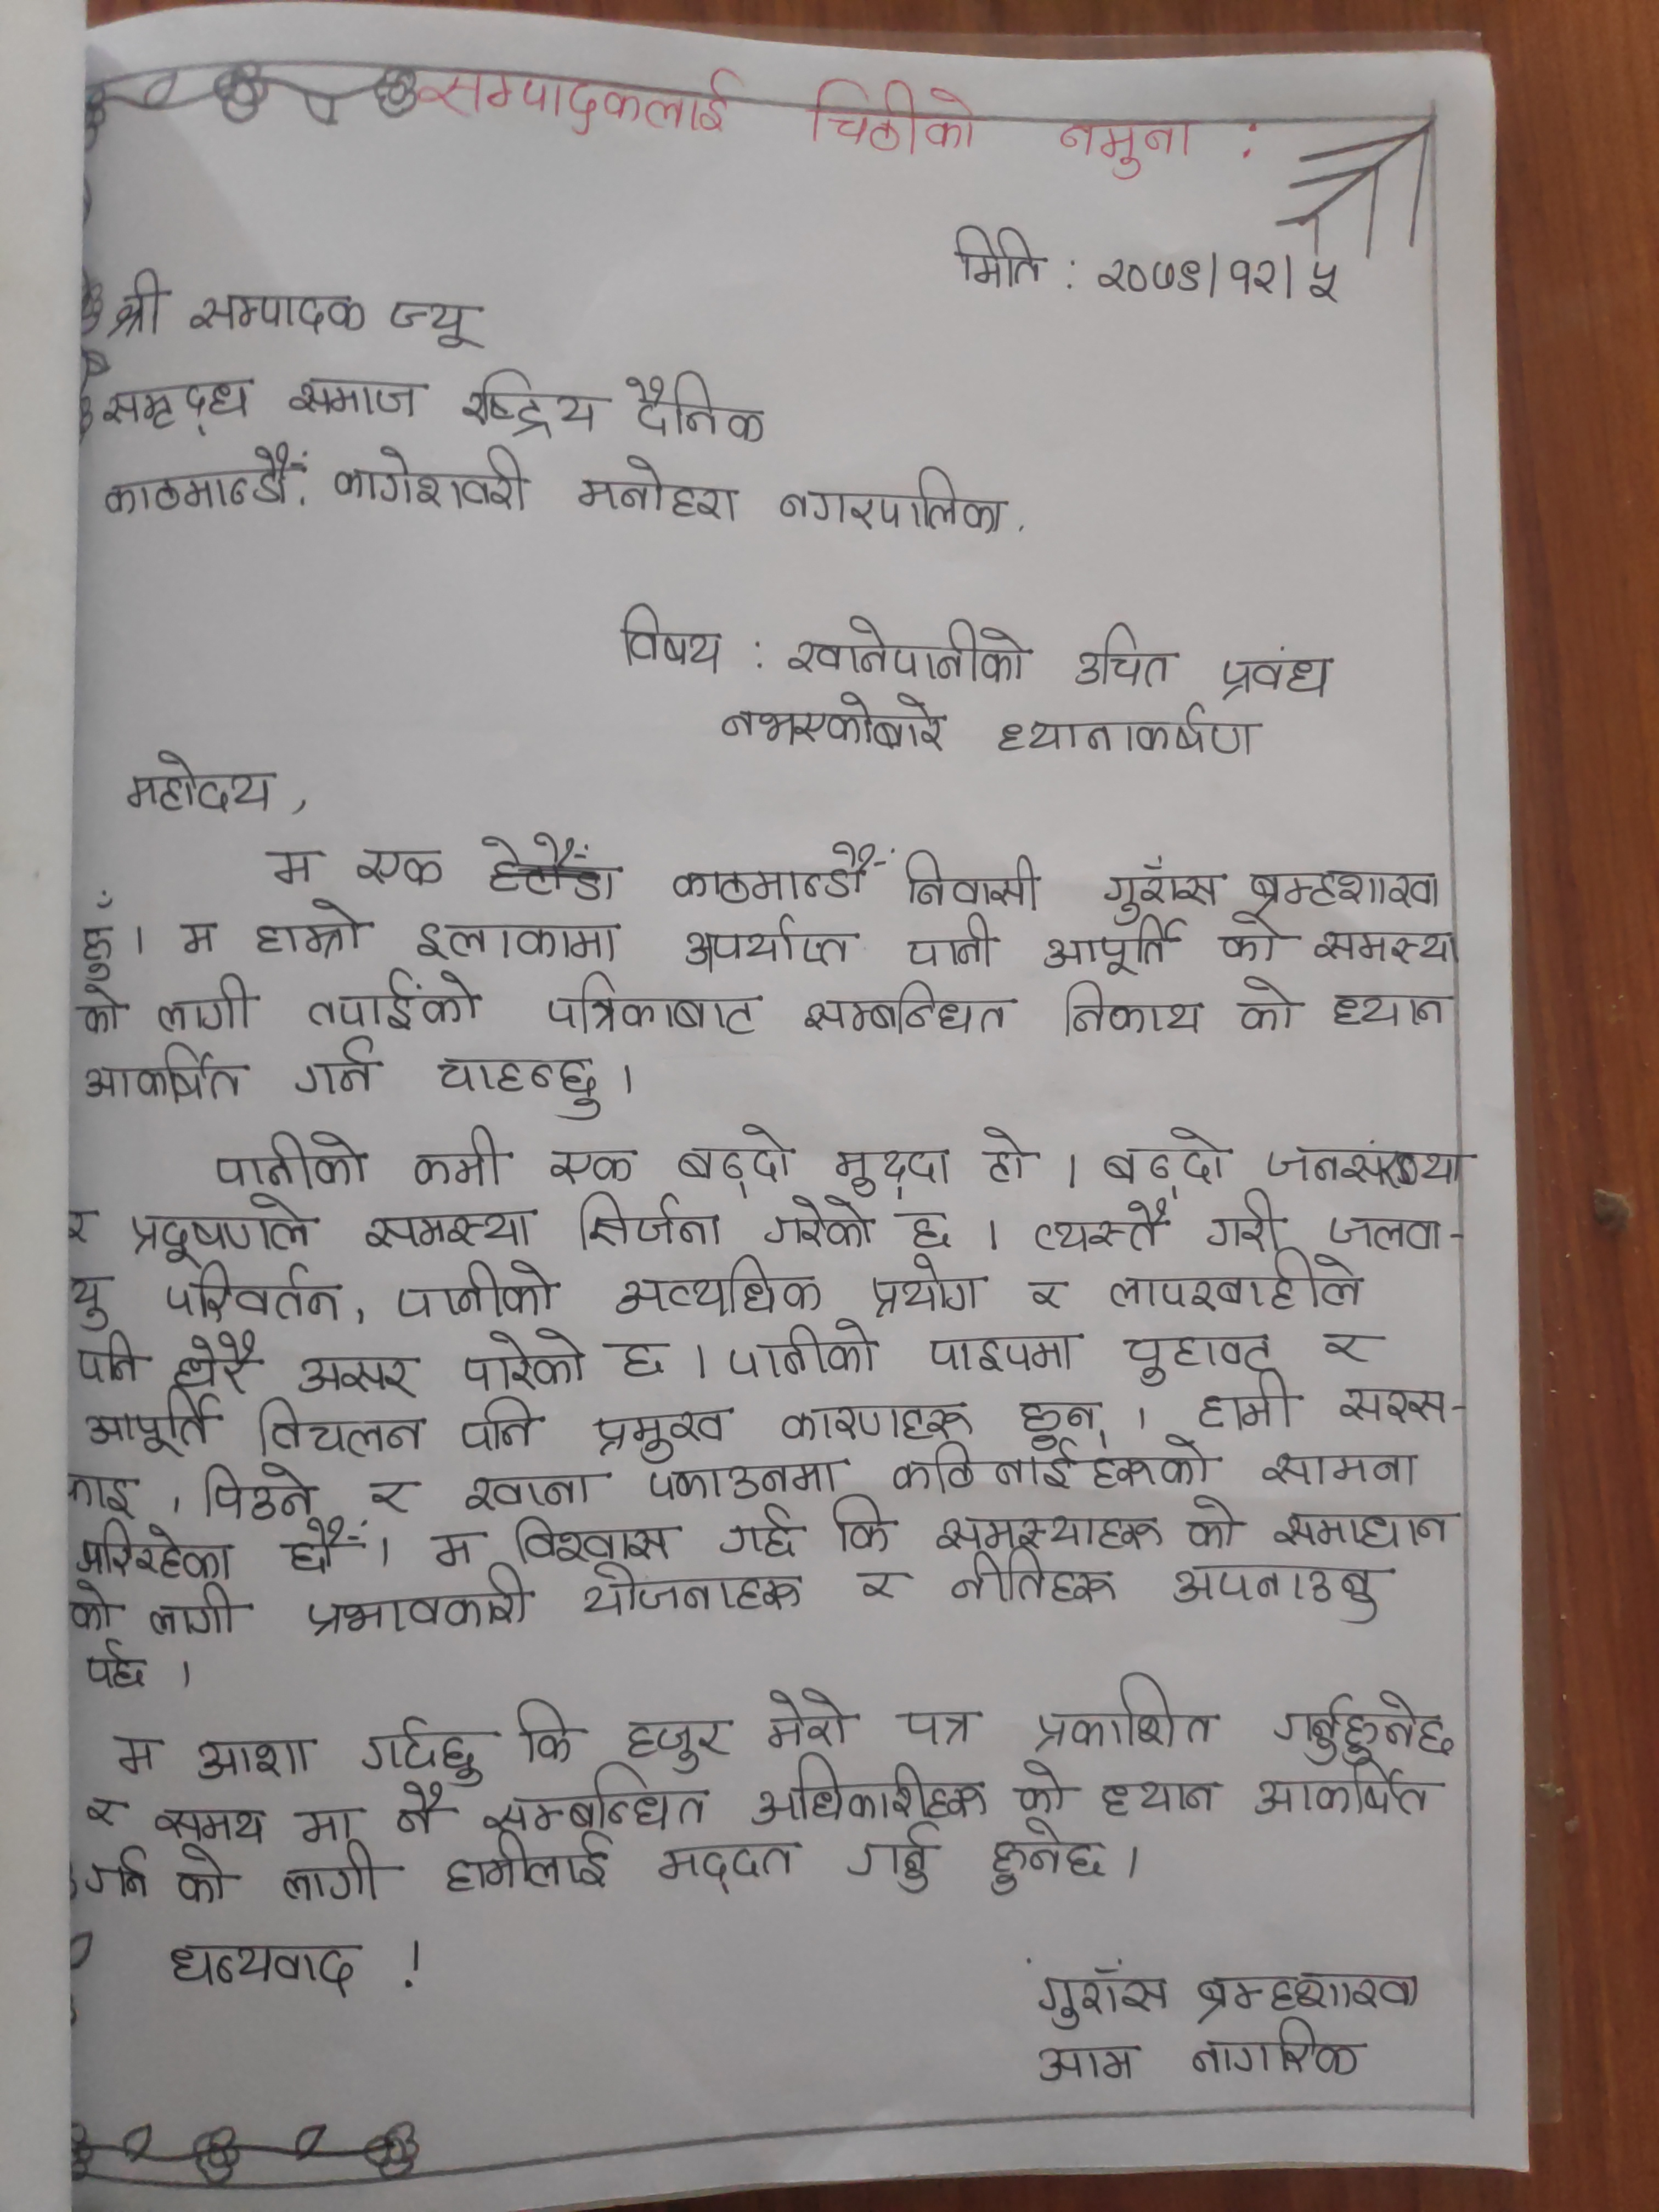text: (423, 59, 748, 141), (889, 1435, 1204, 1507), (779, 618, 1032, 690), (1105, 1247, 1368, 1315), (471, 1768, 716, 1838), (748, 1754, 992, 1824), (538, 970, 765, 1045), (301, 1571, 544, 1641), (779, 467, 1012, 538), (1094, 251, 1352, 315), (1032, 1670, 1223, 1756), (328, 442, 532, 521), (1171, 1557, 1392, 1629), (800, 77, 983, 162), (995, 704, 1274, 759), (99, 442, 305, 517), (714, 690, 955, 752), (152, 1933, 368, 2003), (584, 1559, 805, 1627), (120, 1195, 326, 1266), (1194, 1966, 1427, 2029), (662, 843, 882, 909), (1270, 1689, 1460, 1764), (303, 965, 486, 1038), (429, 1047, 605, 1122), (613, 1258, 826, 1318), (680, 909, 864, 979), (800, 982, 1023, 1040), (917, 1507, 1176, 1555), (408, 909, 629, 965), (167, 1259, 343, 1329), (117, 747, 282, 820), (1244, 860, 1443, 921), (946, 1548, 1124, 1616), (1187, 2017, 1373, 2081), (573, 453, 744, 523), (1251, 1139, 1483, 1190), (451, 366, 606, 441), (439, 1834, 622, 1897), (77, 1042, 249, 1108), (253, 1399, 429, 1463), (504, 1508, 683, 1571), (620, 369, 767, 446), (718, 1318, 882, 1386), (1051, 110, 1206, 181), (75, 1517, 242, 1583), (357, 1714, 493, 1794), (1253, 1766, 1445, 1822), (202, 1130, 375, 1191), (450, 1329, 591, 1402), (1032, 1959, 1173, 2033), (392, 1261, 561, 1322), (901, 845, 1040, 918), (80, 1388, 221, 1460), (561, 1191, 728, 1251), (669, 1122, 798, 1198), (770, 1397, 979, 1444), (985, 1818, 1110, 1897), (1119, 1325, 1279, 1386), (643, 1458, 850, 1505), (1265, 1503, 1464, 1552), (183, 287, 369, 338), (1056, 979, 1213, 1038), (586, 1404, 735, 1465), (653, 1834, 802, 1895), (606, 596, 727, 671), (1096, 855, 1230, 920), (275, 1843, 403, 1911), (924, 1329, 1082, 1383), (1035, 921, 1187, 977), (1026, 1198, 1171, 1256), (1098, 1127, 1234, 1188), (1255, 1447, 1424, 1496), (98, 383, 254, 435), (197, 1456, 317, 1524), (253, 894, 378, 958), (359, 1205, 544, 1249), (945, 221, 1049, 298), (1073, 618, 1178, 695), (864, 1254, 988, 1318), (291, 1346, 429, 1404), (1314, 920, 1459, 974), (141, 1580, 263, 1642), (453, 1468, 615, 1515), (1195, 1367, 1304, 1437), (410, 1127, 519, 1195), (282, 371, 429, 421), (843, 1822, 939, 1898), (760, 1681, 857, 1756), (1206, 655, 1347, 705), (185, 1735, 324, 1785), (385, 291, 493, 355), (613, 1717, 742, 1771), (155, 974, 261, 1038), (1094, 1771, 1225, 1824), (141, 1796, 270, 1848), (763, 1198, 880, 1254), (899, 916, 1006, 977), (833, 1144, 955, 1197), (1331, 1379, 1452, 1432), (169, 1331, 263, 1397), (451, 1399, 552, 1458), (1314, 1212, 1450, 1256), (509, 1689, 582, 1770), (295, 1036, 383, 1101), (277, 1519, 368, 1581), (1009, 1393, 1105, 1453), (713, 1508, 805, 1566), (971, 1118, 1044, 1190), (1321, 989, 1457, 1028), (389, 1782, 467, 1848), (1023, 2043, 1141, 2087), (106, 268, 174, 343), (540, 1139, 640, 1190), (1199, 1193, 1277, 1256), (68, 1331, 152, 1388), (350, 845, 450, 892), (73, 894, 124, 986), (890, 1702, 986, 1747), (80, 1846, 153, 1905), (78, 1637, 153, 1695), (1007, 1754, 1073, 1818), (167, 1848, 239, 1907), (826, 1496, 899, 1554), (1232, 977, 1307, 1033), (1182, 1489, 1244, 1555), (1216, 914, 1291, 967), (61, 1268, 119, 1332), (612, 1331, 676, 1388), (420, 1521, 490, 1573), (70, 979, 132, 1036), (106, 1728, 167, 1785), (286, 1806, 368, 1846), (68, 1585, 131, 1637), (1314, 1327, 1385, 1371), (265, 840, 326, 885), (854, 1564, 915, 1609), (1014, 1271, 1070, 1318), (167, 913, 221, 960), (894, 1207, 951, 1249), (364, 1479, 423, 1519), (80, 1794, 132, 1827)
